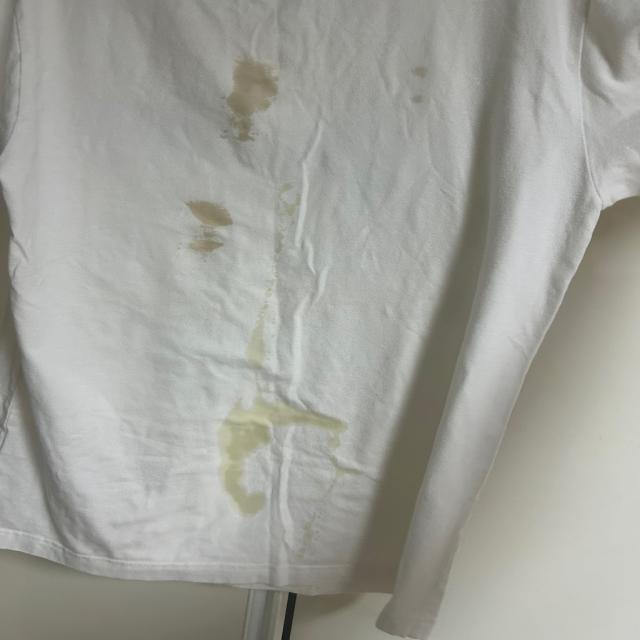stain: (221, 56, 289, 146), (225, 398, 354, 439), (218, 435, 280, 519), (175, 200, 233, 255), (265, 191, 300, 263), (404, 64, 431, 105)
